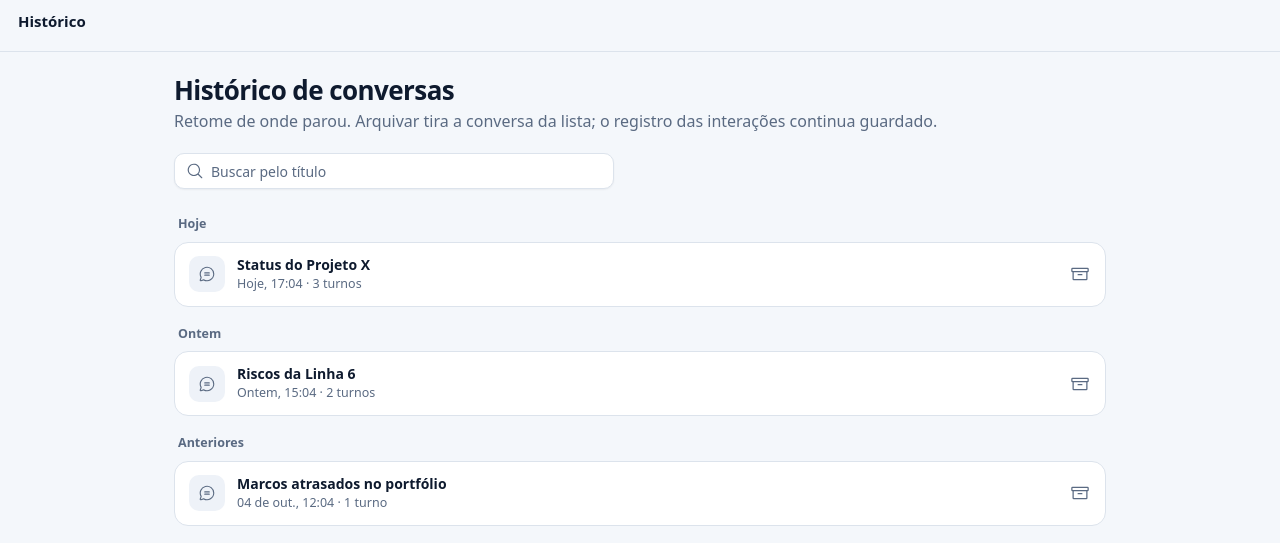
Test: Página de histórico › filtra as conversas pelo título
(page scrolled)
Check: the link "Status do Projeto X Hoje, 17:04 · 3 turnos" is shown, box [189, 255, 370, 292]
In the field named "Buscar conversas": (394, 171) [174, 153, 614, 189], type "linha"
(page scrolled)
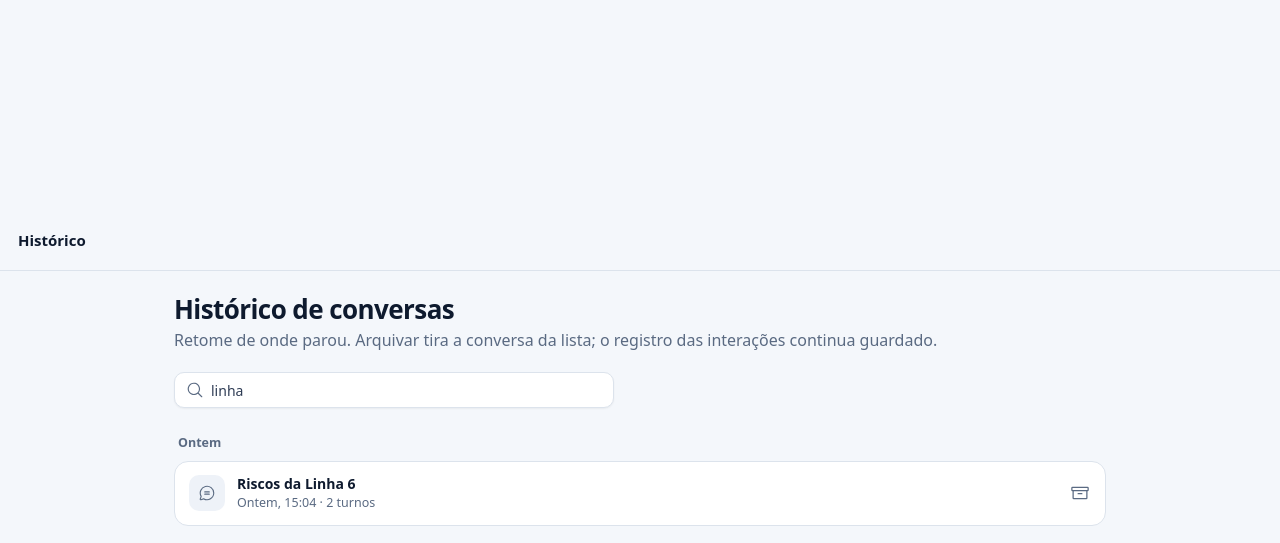
Check: the link "Riscos da Linha 6 Ontem, 15:04 · 2 turnos" is shown, box [189, 474, 375, 511]
Check: the link "Status do Projeto X" is gone
